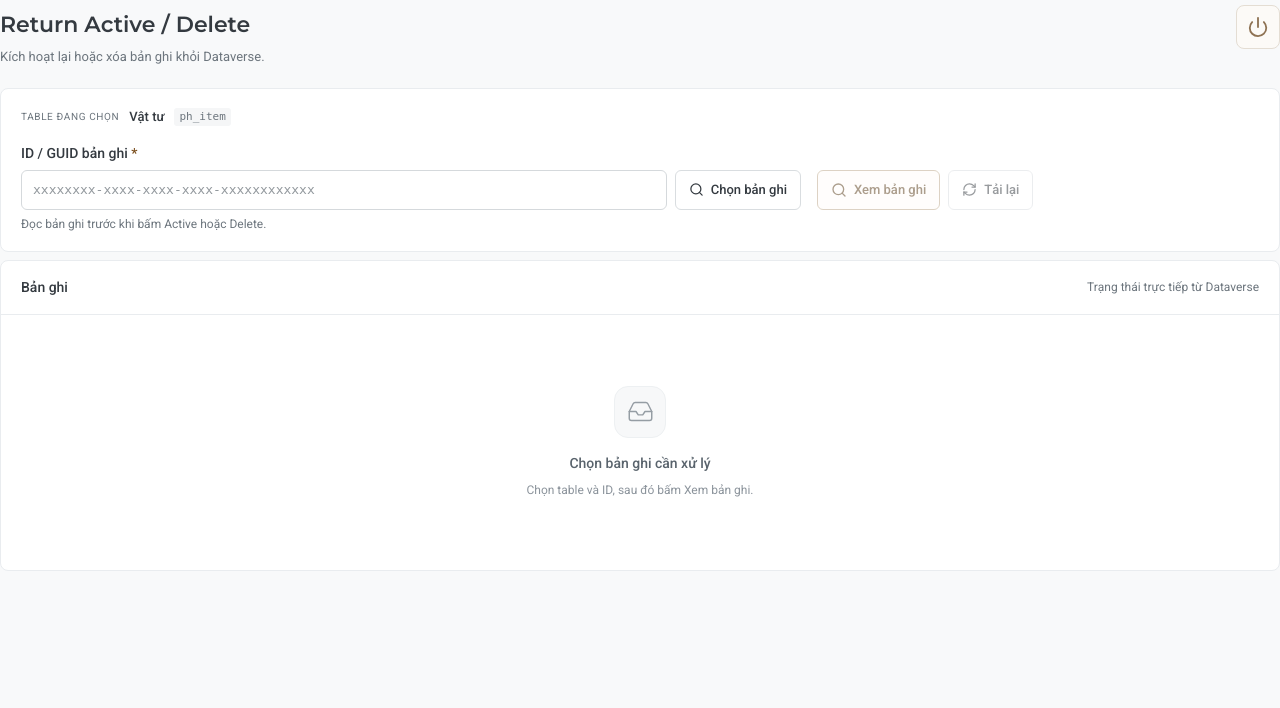
Test: preserves the row and requires reload after a delete failure
The image size is (1280, 708).
Type "00000000-0000-0000-0000-000000000001" into the field labelled "ID / GUID bản ghi *" at (344, 190), box [21, 170, 667, 210]
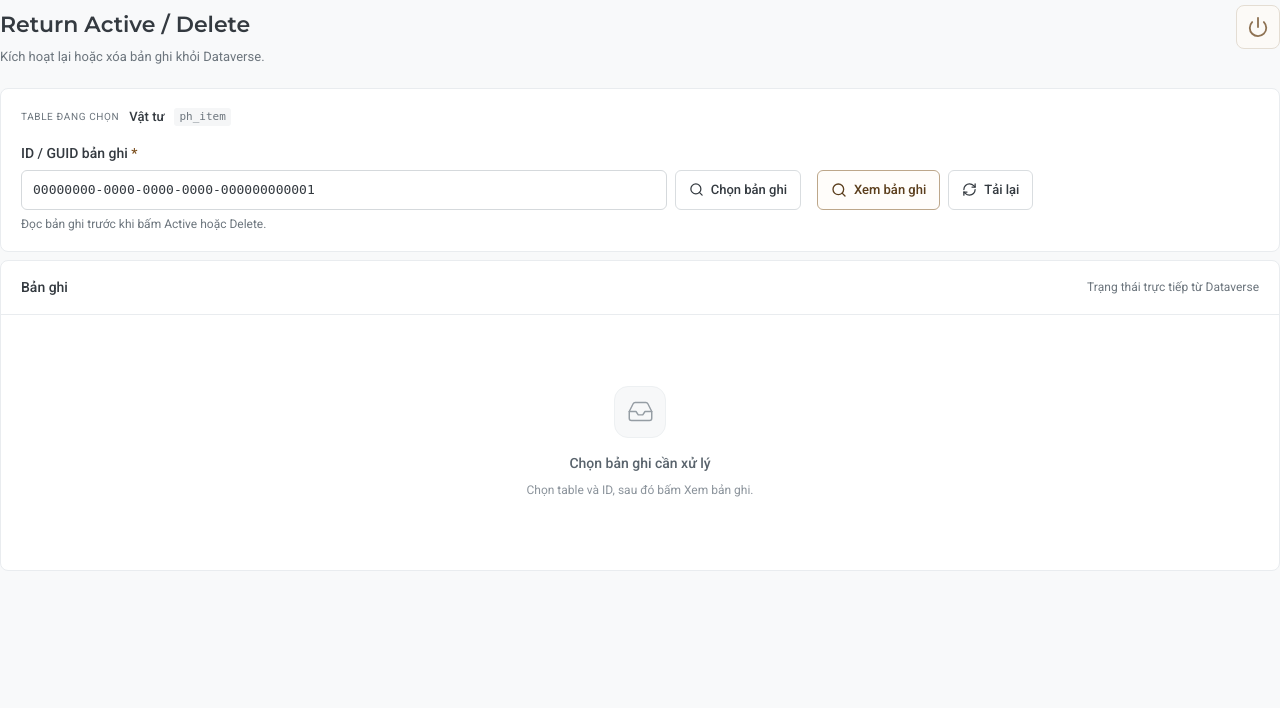
Click the button "Xem bản ghi" at (879, 190), box [817, 170, 940, 210]
(page scrolled)
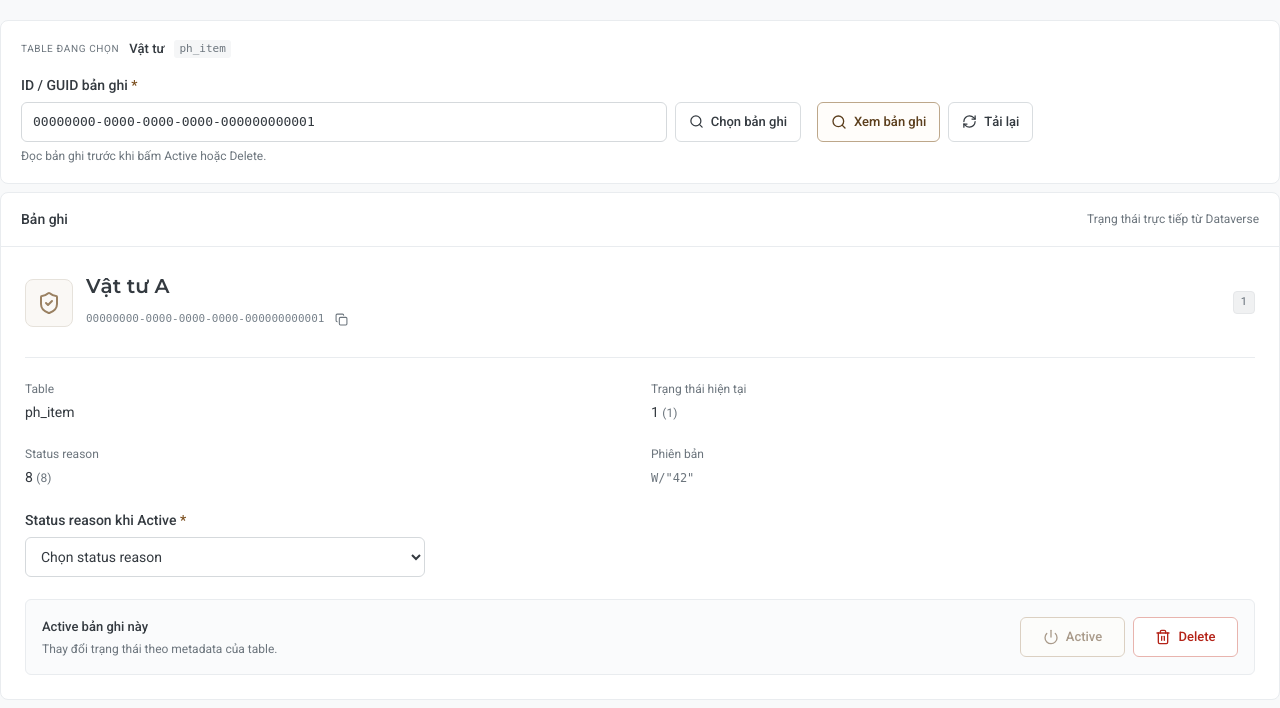
Click the button "Delete" at (1186, 637), box [1133, 617, 1238, 657]
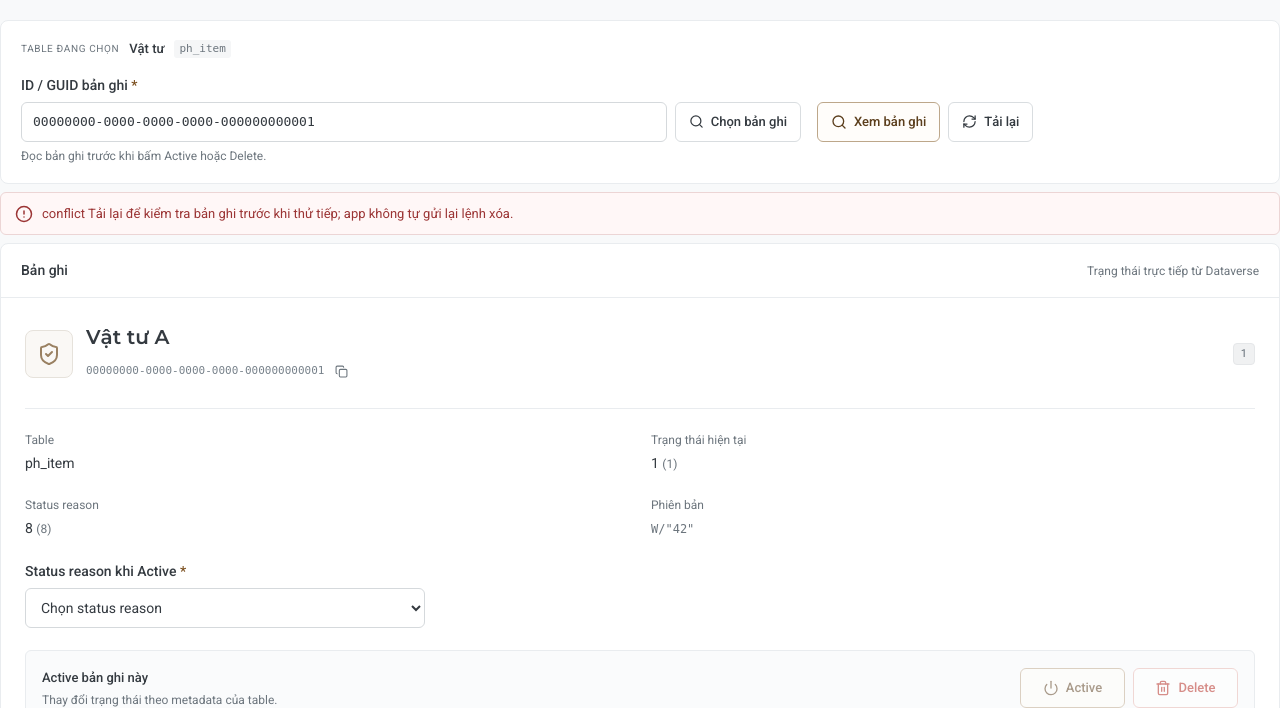
Check: the button "Tải lại" is enabled, box [948, 102, 1033, 142]
Check: the text "conflict" is shown, box [42, 206, 513, 221]
Check: the button "Delete" is disabled, box [1133, 668, 1238, 707]
